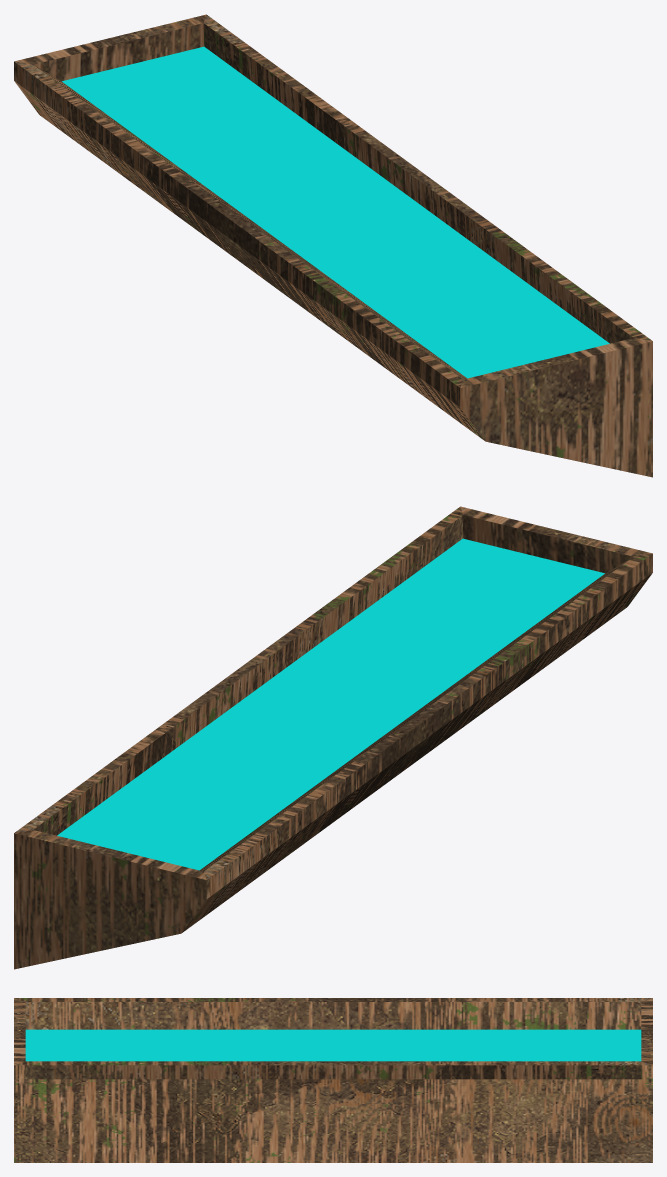
File: m_windowBox.fbx
3 renders of one model, top to bottom at view 1: azimuth 30°, elevation 25°; view 2: azimuth 150°, elevation 25°; view 3: azimuth 270°, elevation 25°, orthographic. The views are drawn at different scales.
Visible parts, largest first — view 1: pCube346; view 2: pCube346; view 3: pCube346.
Boxes of the visible parts, x1,y1,x2,y2 form: pCube346: (14, 14, 652, 477); pCube346: (14, 506, 652, 969); pCube346: (14, 998, 652, 1162).
Bounding box in the file's own units: 136 × 92.15 × 547.
